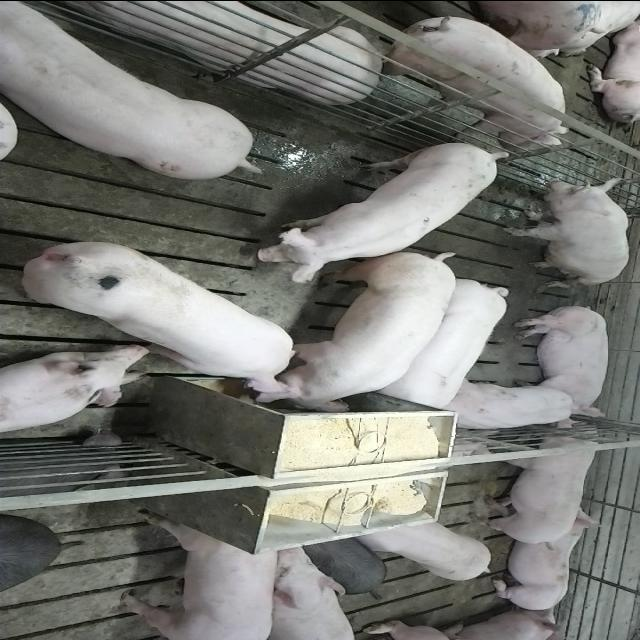Feeding: (18, 238, 302, 399), (253, 252, 463, 418)
Lateral_lying: (512, 302, 612, 419)
Sitting: (502, 177, 632, 285)
Standing: (0, 0, 258, 176), (250, 137, 510, 278), (370, 9, 573, 147), (122, 508, 276, 638), (377, 278, 515, 411), (468, 423, 613, 546), (361, 517, 496, 583), (268, 540, 356, 640), (304, 536, 387, 596)
Sternal_lying: (33, 0, 380, 101), (0, 346, 152, 436), (484, 514, 606, 612), (442, 379, 590, 434)
